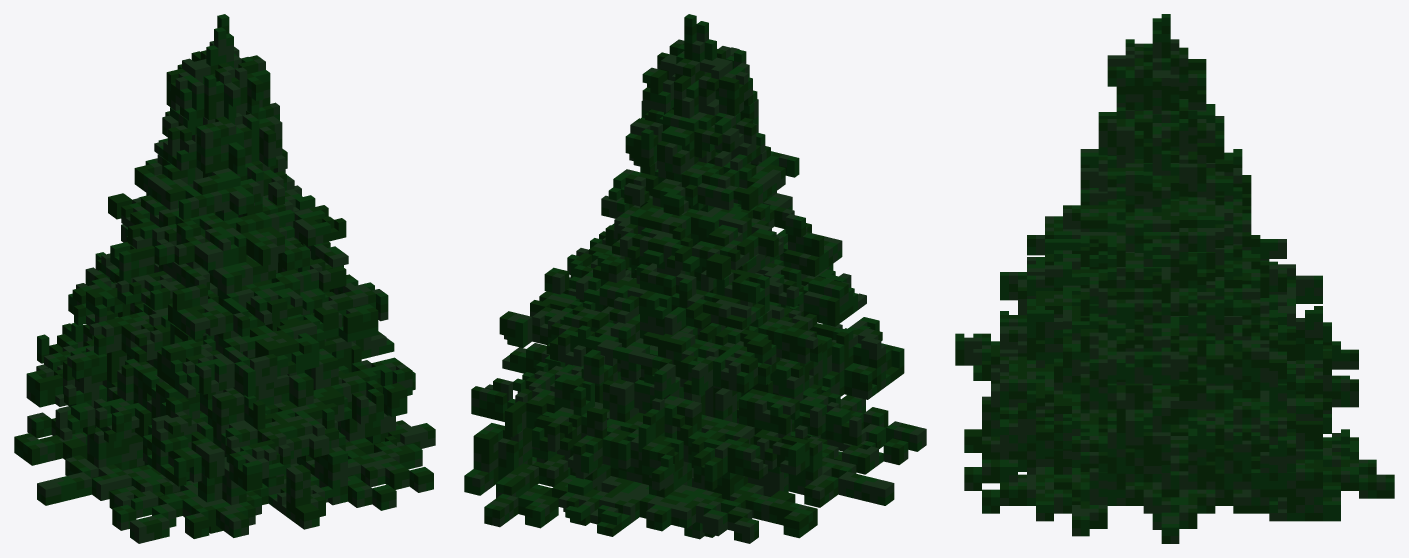
File: Spruce-0.obj
3 views of the same model, side by side, from view 1: azimuth 30°, elevation 25°; view 2: azimuth 150°, elevation 25°; view 3: azimuth 270°, elevation 25° (orthographic). The views are drawn at different scales.
Size of the model in its own units: 4.8 by 6.3 by 4.9.
1 material, 1 textured.
